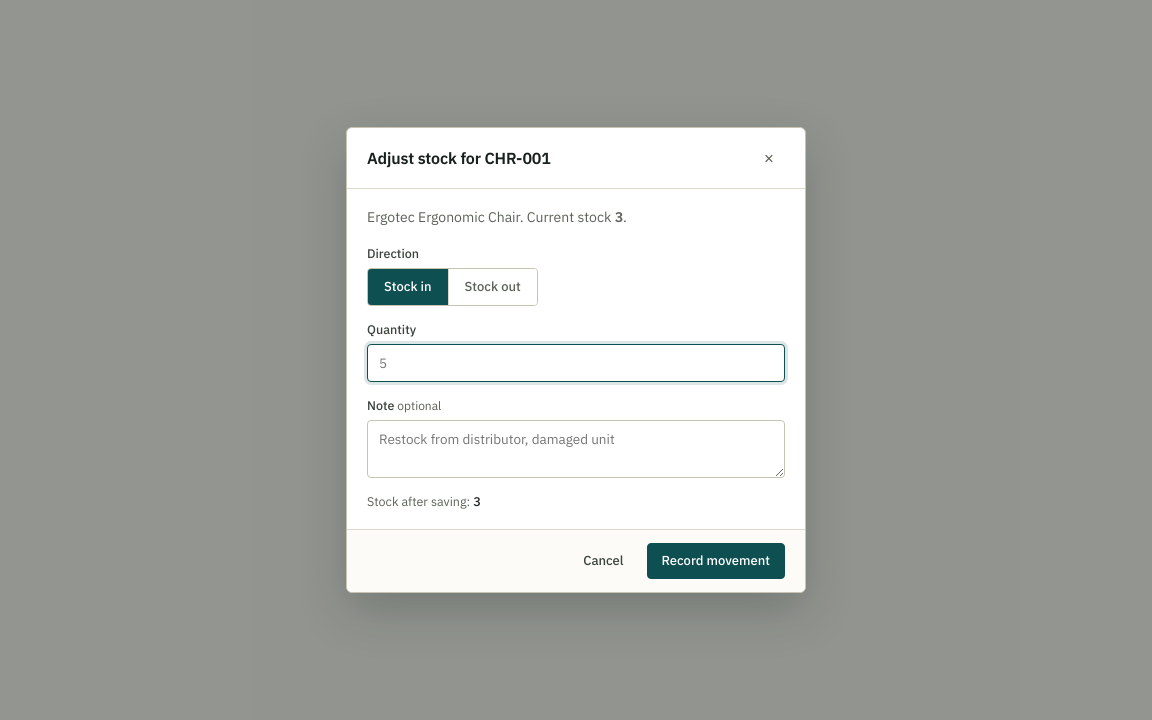
Scenario: StockAdjustModal › refuses zero before it reaches the API
This screenshot has width=1152, height=720.
Click the button "Stock out".
click(492, 287)  # box [448,269,537,305]
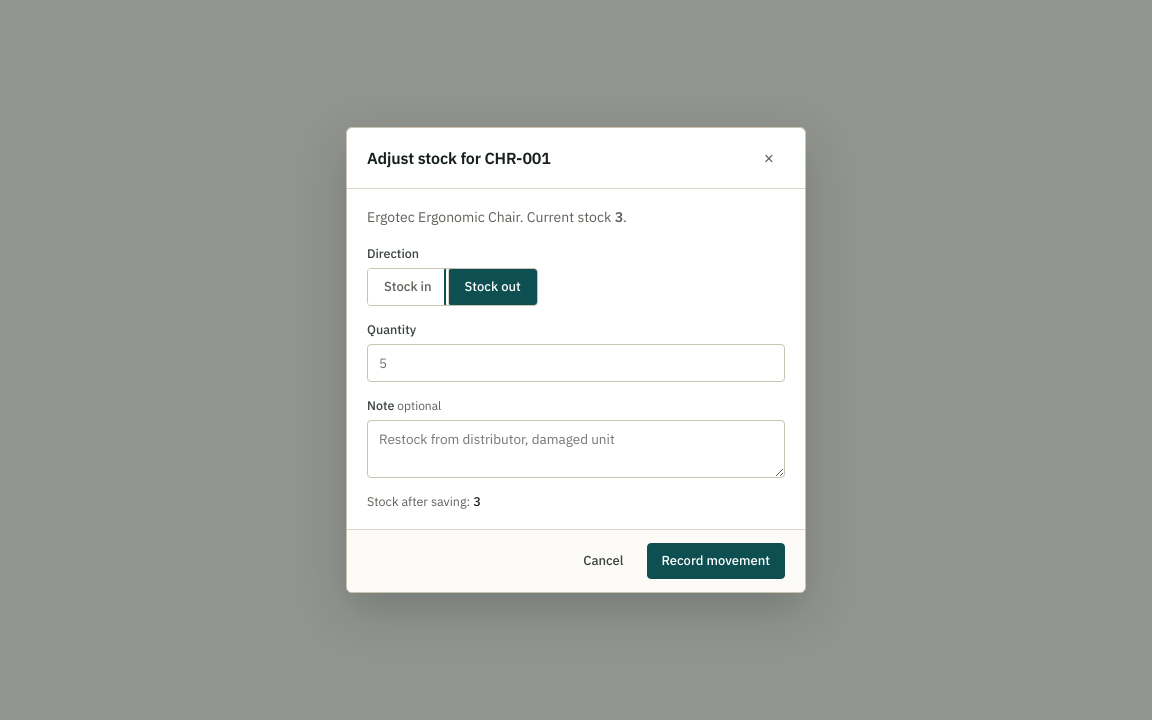
Type "0" into the field labelled "Quantity".
click(576, 363); type("0")  # box [367,344,785,382]
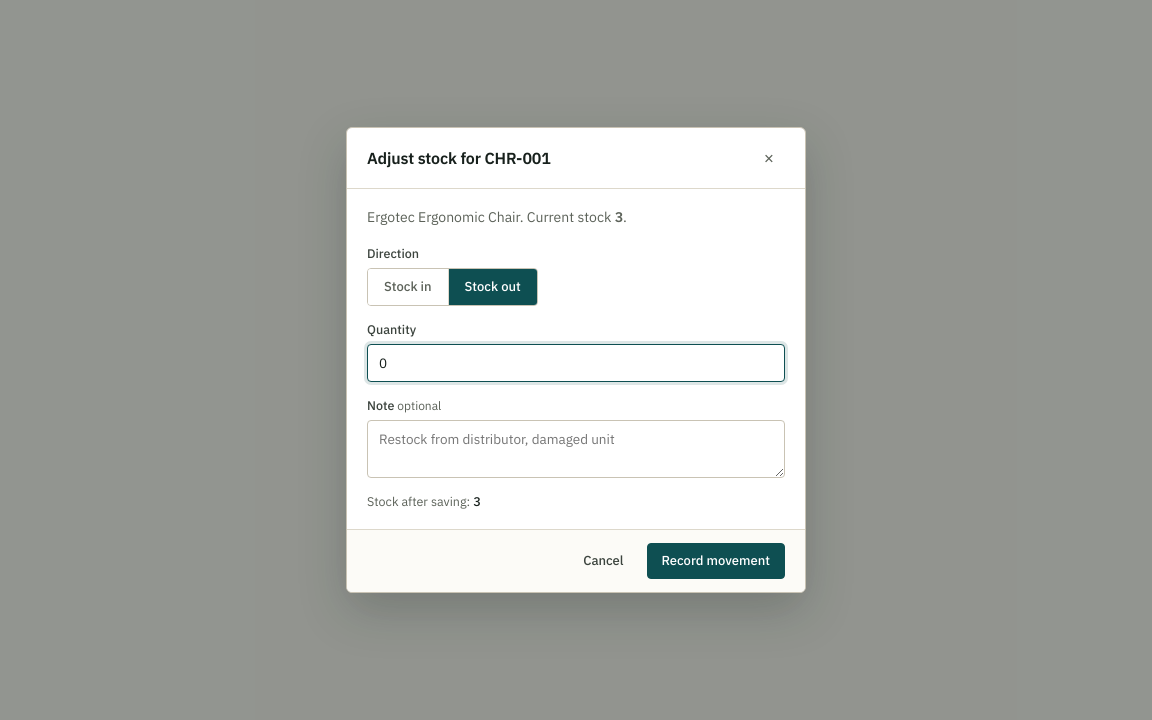
Click the button "Record movement".
click(716, 561)  # box [646,543,785,579]
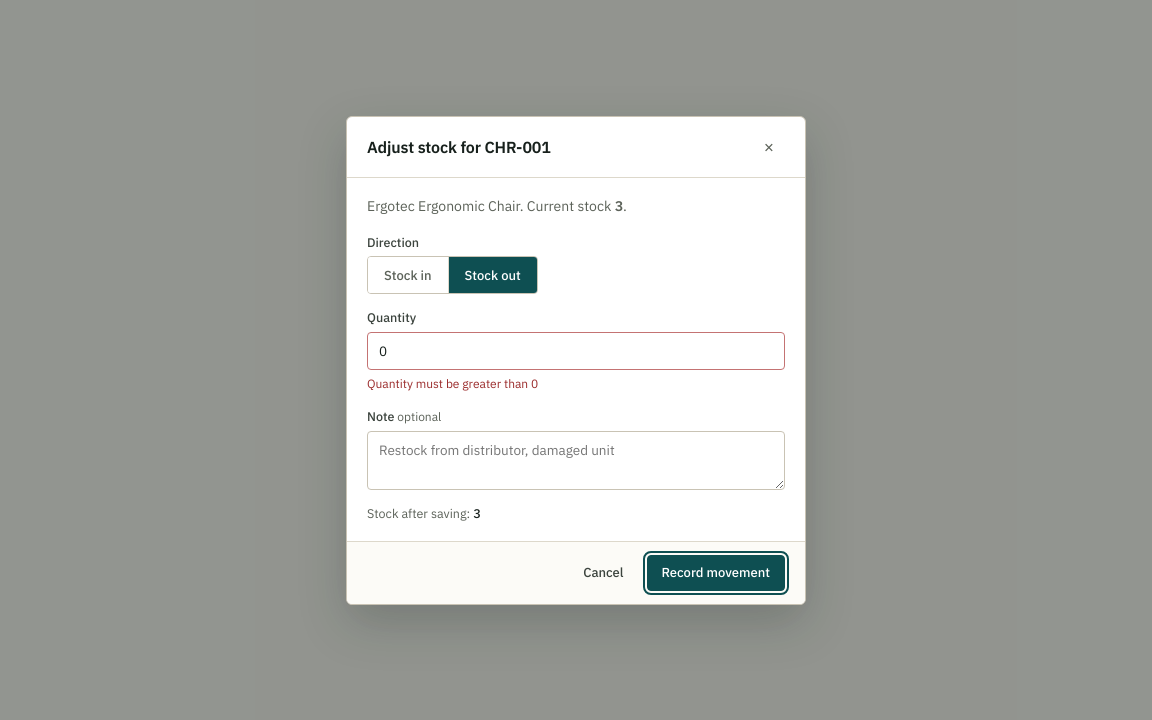
Expected: the text "Quantity must be greater than 0" is shown, [367,376,538,391]
